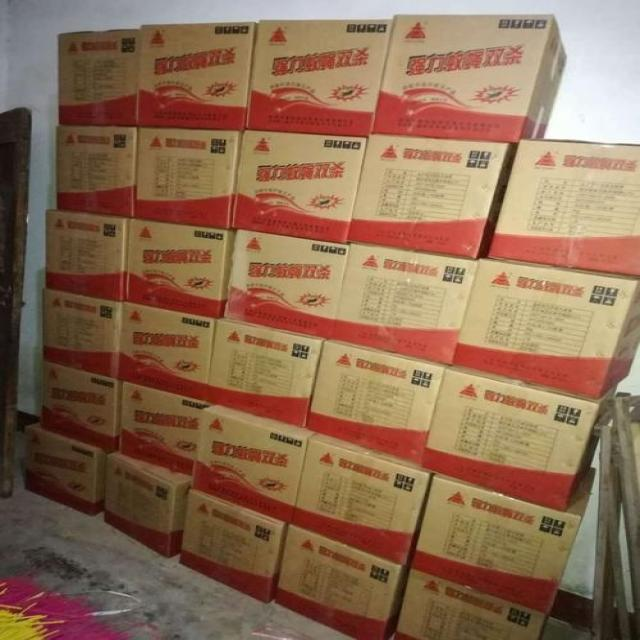Carton: (54, 18, 631, 480), (376, 13, 567, 137), (485, 142, 639, 275), (346, 140, 500, 258), (31, 288, 118, 453), (233, 133, 360, 239), (99, 460, 177, 556), (24, 425, 97, 515), (46, 209, 119, 297)
